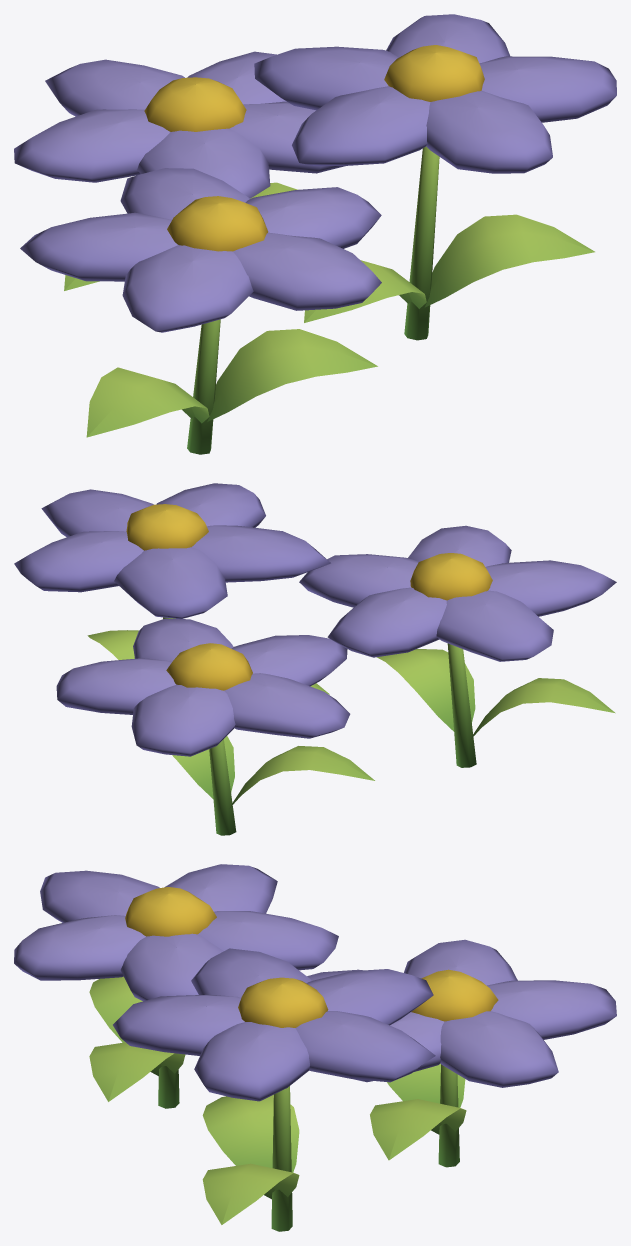
The model's file is bluebells.glb.
3 renders of one model, top to bottom at view 1: azimuth 30°, elevation 25°; view 2: azimuth 150°, elevation 25°; view 3: azimuth 270°, elevation 25°, orthographic. The views are drawn at different scales.
Visible parts, largest first — view 1: Petals, Grass; view 2: Petals, Grass; view 3: Petals, Grass.
Part boxes in pixels (x1=…): Petals: x1=14, y1=14, x2=616, y2=332; Grass: x1=64, y1=146, x2=594, y2=454; Petals: x1=14, y1=483, x2=616, y2=756; Grass: x1=87, y1=617, x2=615, y2=835; Petals: x1=14, y1=864, x2=616, y2=1101; Grass: x1=89, y1=976, x2=466, y2=1231.
Bounding box in the file's own units: 0.7895 × 0.3476 × 0.7549.
